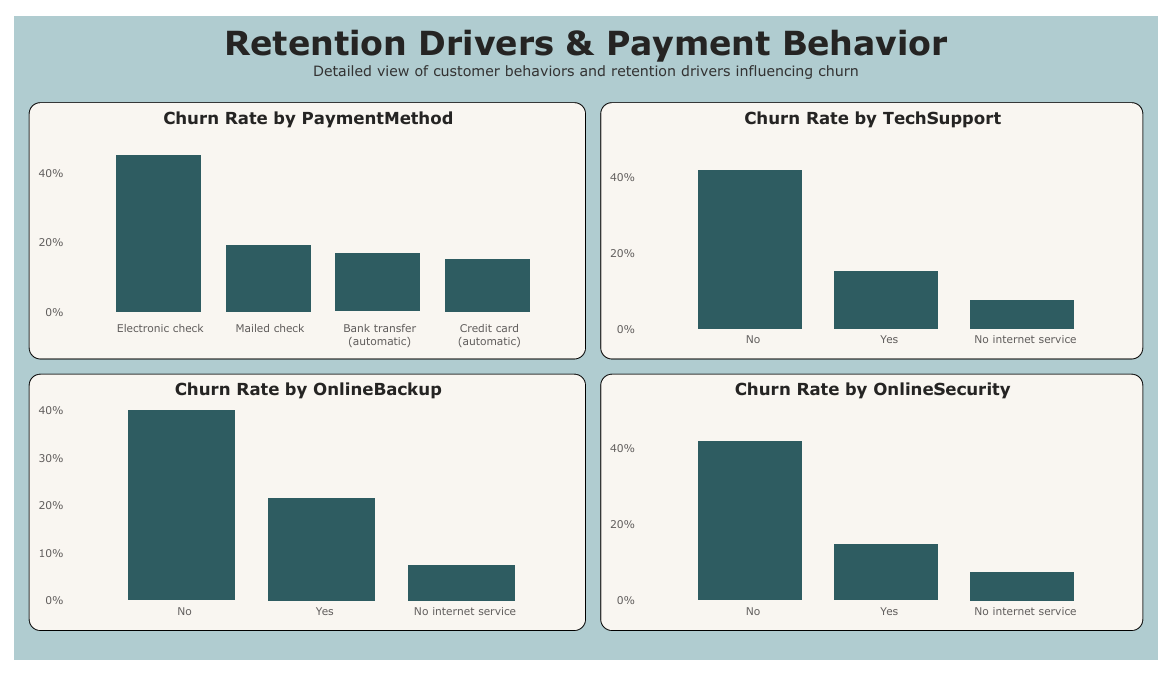

The dashboard page shown, as its layout file describes it:
{"tool":"powerbi","page":{"name":"Customer Churn & Retention Dashboard 2","canvas":[1280,720],"ordinal":1},"visuals":[{"type":"clusteredColumnChart","fields":{"Category":["WA_Fn-UseC_-Telco-Customer-Churn).PaymentMethod"],"Y":["WA_Fn-UseC_-Telco-Customer-Churn).Churn Rate"]},"box":[16,96,624,288],"z":0},{"type":"clusteredColumnChart","fields":{"Category":["WA_Fn-UseC_-Telco-Customer-Churn).OnlineBackup"],"Y":["WA_Fn-UseC_-Telco-Customer-Churn).Churn Rate"]},"box":[16,400,624,288],"z":1000},{"type":"clusteredColumnChart","fields":{"Category":["WA_Fn-UseC_-Telco-Customer-Churn).TechSupport"],"Y":["WA_Fn-UseC_-Telco-Customer-Churn).Churn Rate"]},"box":[656,96,608,288],"z":2000},{"type":"clusteredColumnChart","fields":{"Category":["WA_Fn-UseC_-Telco-Customer-Churn).OnlineSecurity"],"Y":["WA_Fn-UseC_-Telco-Customer-Churn).Churn Rate"]},"box":[656,400,608,288],"z":3000},{"type":"textbox","box":[16,0,1248,80],"z":4000}]}

Visuals, with their boxes in screenshot pixels (x1, y1, x2, y2), scaled from the page's 1280x720 canvas onto the 1176x676 screenshot:
clusteredColumnChart - WA_Fn-UseC_-Telco-Customer-Churn).PaymentMethod x WA_Fn-UseC_-Telco-Customer-Churn).Churn Rate: 15:90:588:361
clusteredColumnChart - WA_Fn-UseC_-Telco-Customer-Churn).OnlineBackup x WA_Fn-UseC_-Telco-Customer-Churn).Churn Rate: 15:376:588:646
clusteredColumnChart - WA_Fn-UseC_-Telco-Customer-Churn).TechSupport x WA_Fn-UseC_-Telco-Customer-Churn).Churn Rate: 603:90:1161:361
clusteredColumnChart - WA_Fn-UseC_-Telco-Customer-Churn).OnlineSecurity x WA_Fn-UseC_-Telco-Customer-Churn).Churn Rate: 603:376:1161:646
textbox: 15:0:1161:75
